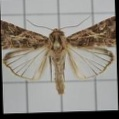Spodoptera litura: (1, 15, 116, 95)
